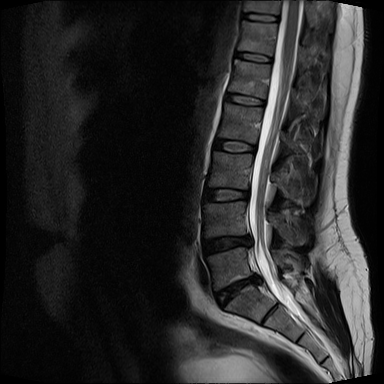Lumbar Disc Bulge LDB: (209, 265, 269, 314), (197, 229, 258, 261)
Normal IVD: (199, 182, 255, 207), (223, 88, 271, 109), (207, 138, 261, 156), (237, 8, 284, 26), (230, 48, 277, 66)
Spinal Stenosis SS: (249, 267, 269, 290), (241, 227, 258, 251)
